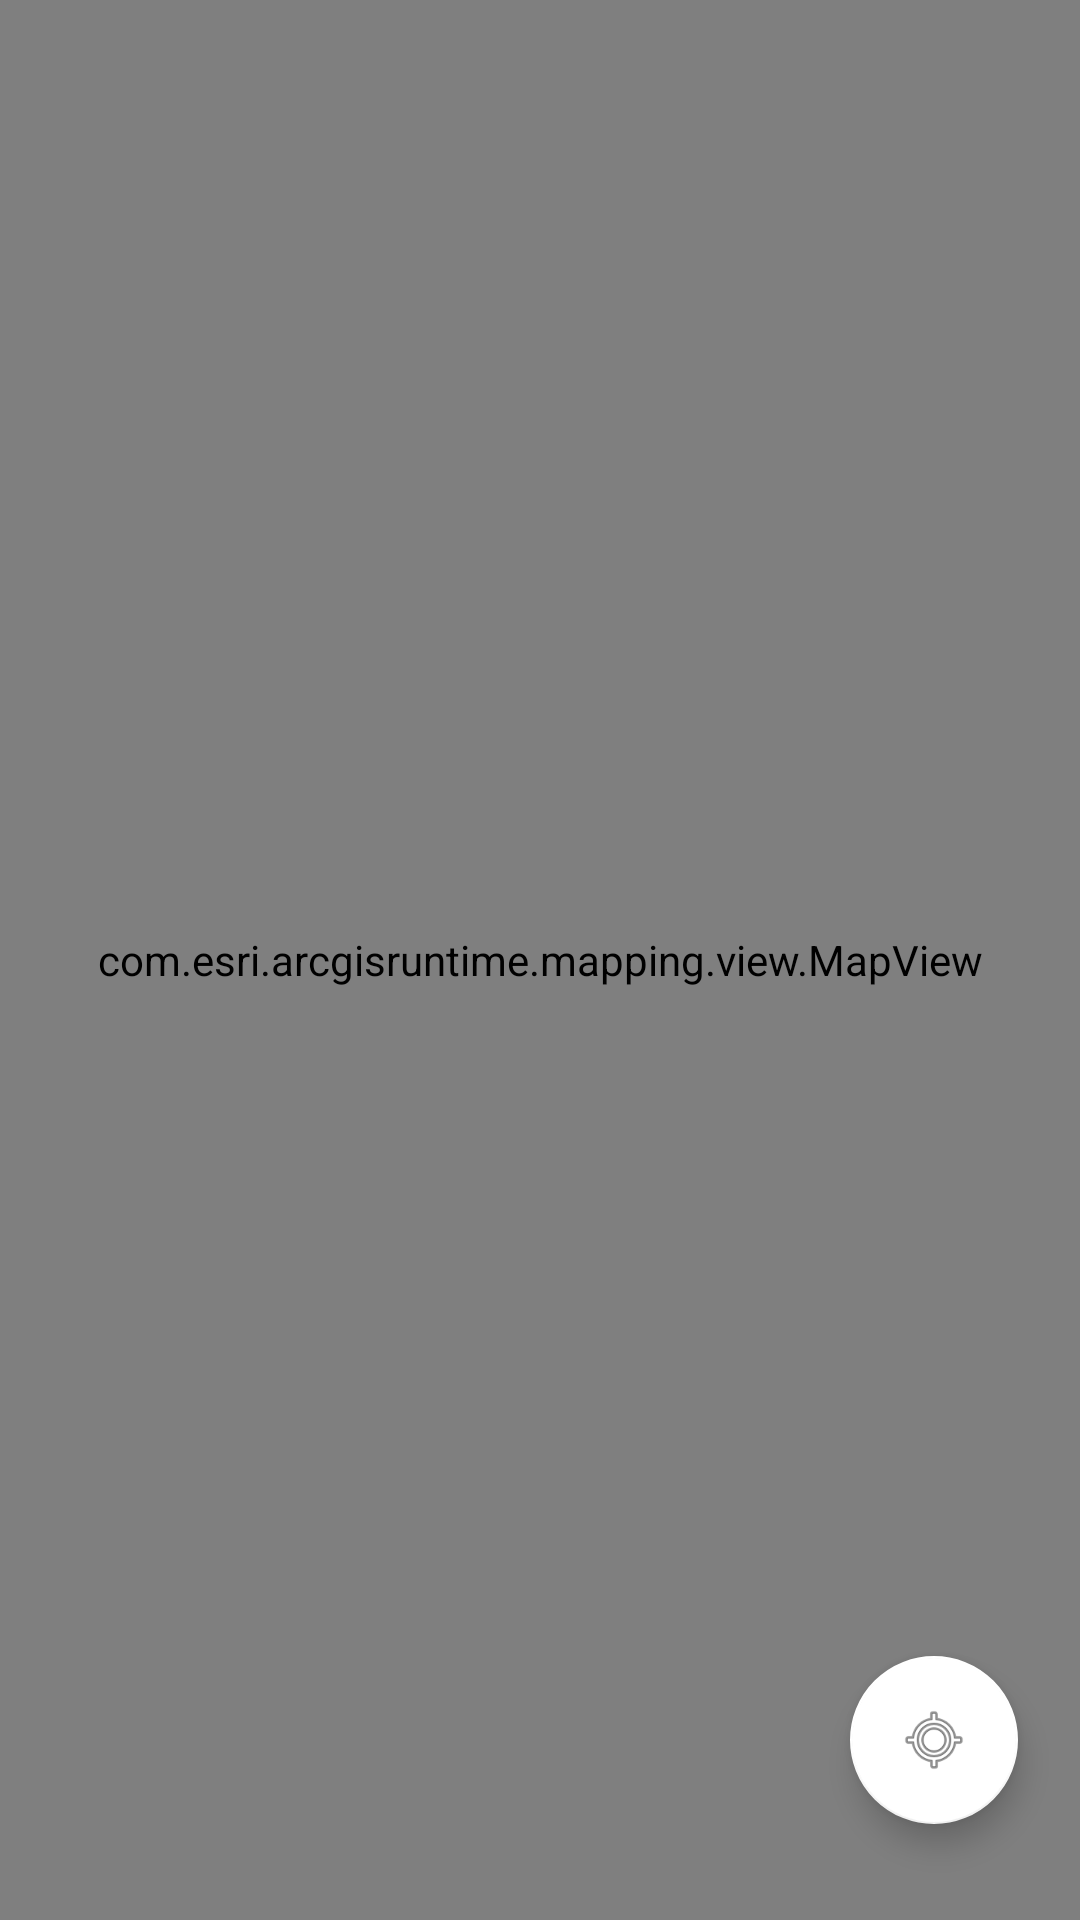

Locate icon controls on the screen. Image size 1080px x 1920px, boxes as bbox=[x1, y1, x2, y2].
mylocation: bbox=[850, 1656, 1018, 1824]
